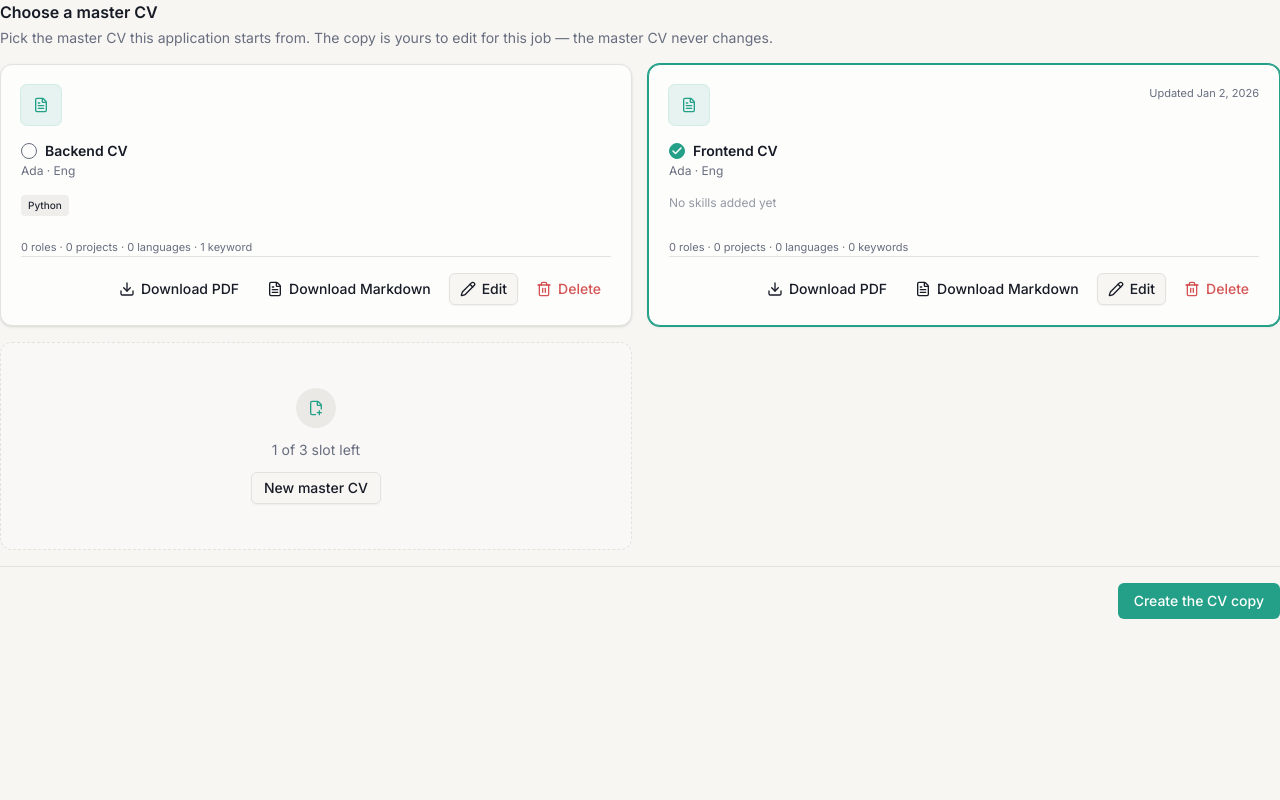
Test case: the tailored CV surface › picker selection clears once the selected CV is deleted, and a lone remaining CV re-preselects
The image size is (1280, 800).
Expected: the radio button labelled "Frontend CV" is checked, [669, 143, 685, 159]
Click the button with aria-label "Delete Frontend CV" at (1217, 288), box [1174, 272, 1259, 304]
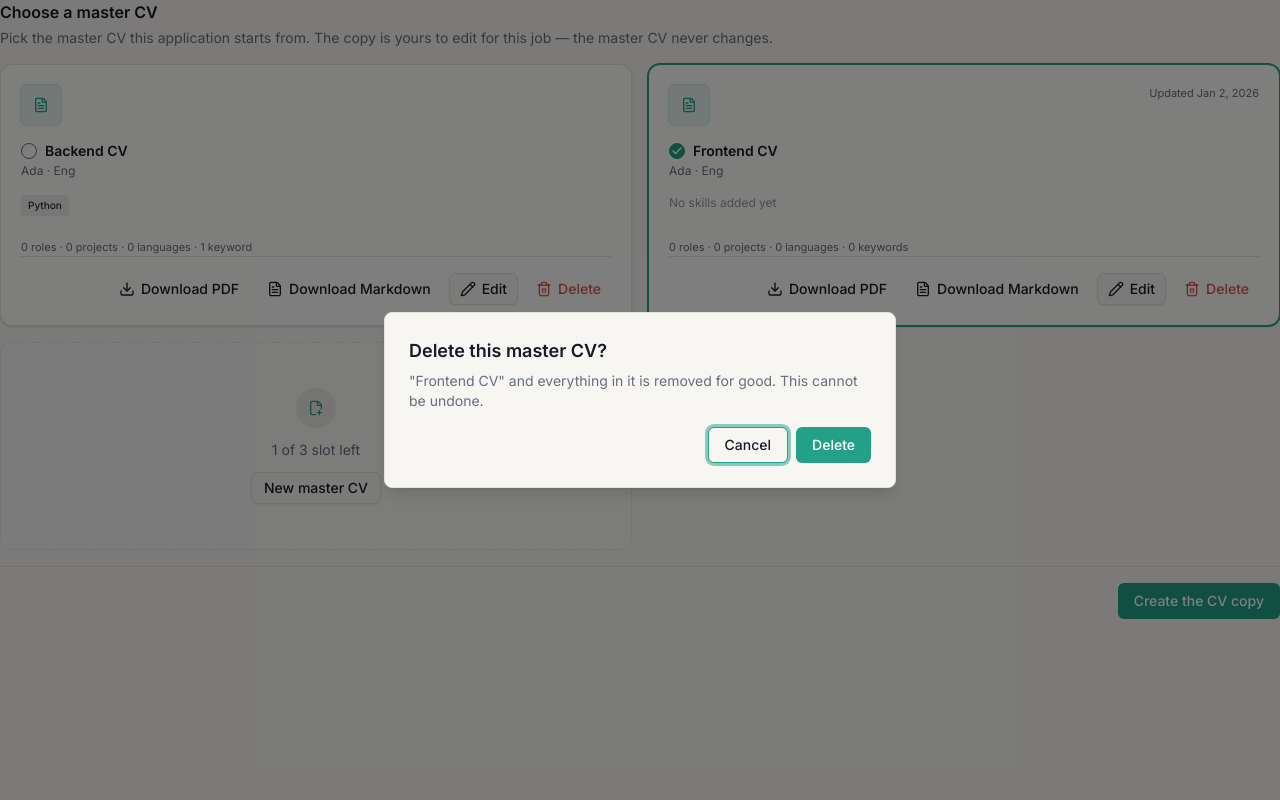
Click the button "Delete" at (834, 445), box [796, 427, 871, 463]
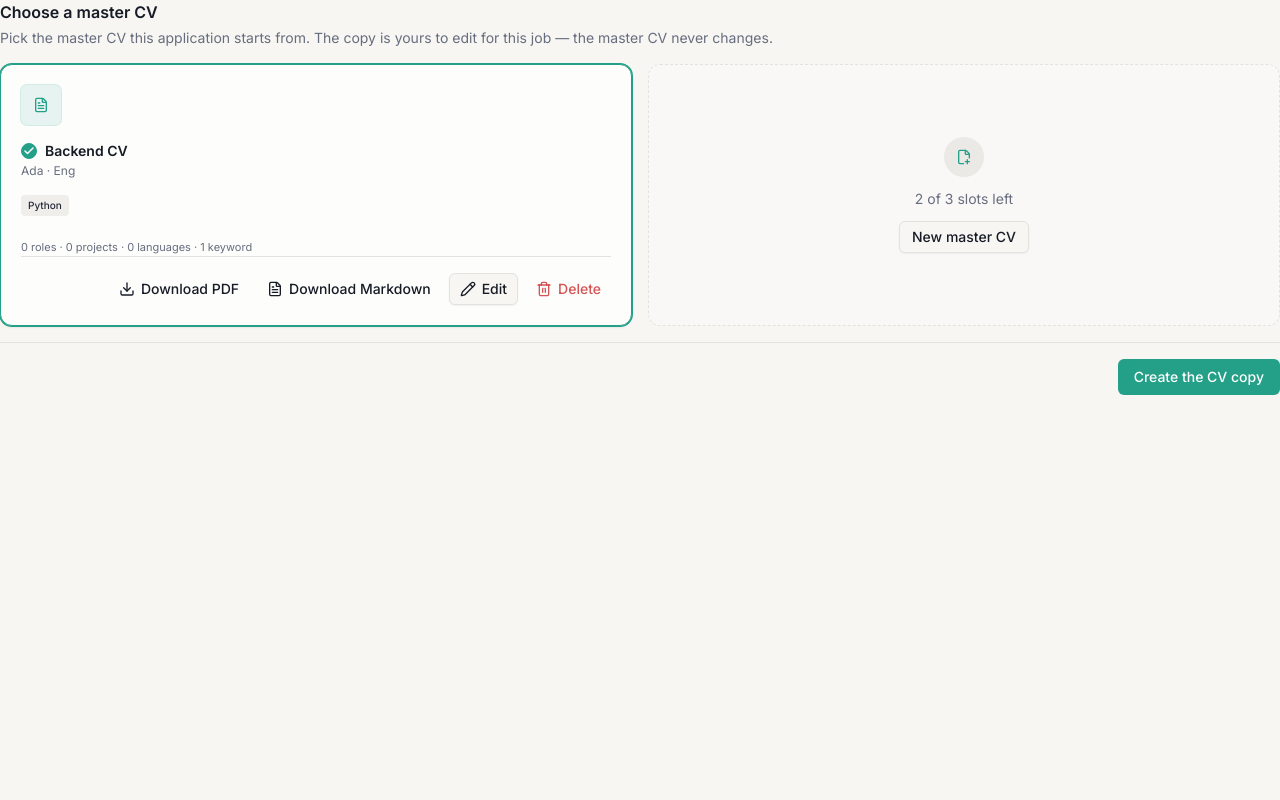
Now the text "Frontend CV" is gone
Now the radio button labelled "Backend CV" is checked, box [21, 143, 37, 159]
